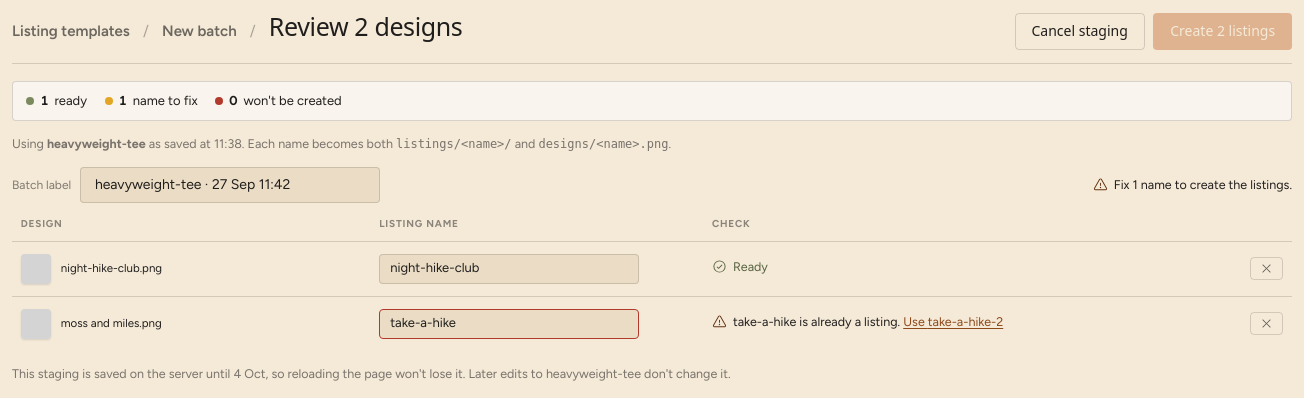
it: StagingPage › blocks Create on a name to fix, and Use suggestion sends it
The image size is (1304, 398).
Expected: the button "Create 2 listings" is disabled, [1153,13,1292,50]
Expected: the text "Fix 1 name to create the listings." is shown, [1114,176,1292,194]
Click the button "Use take-a-hike-2": coordinates (953, 321) [903,313,1003,330]
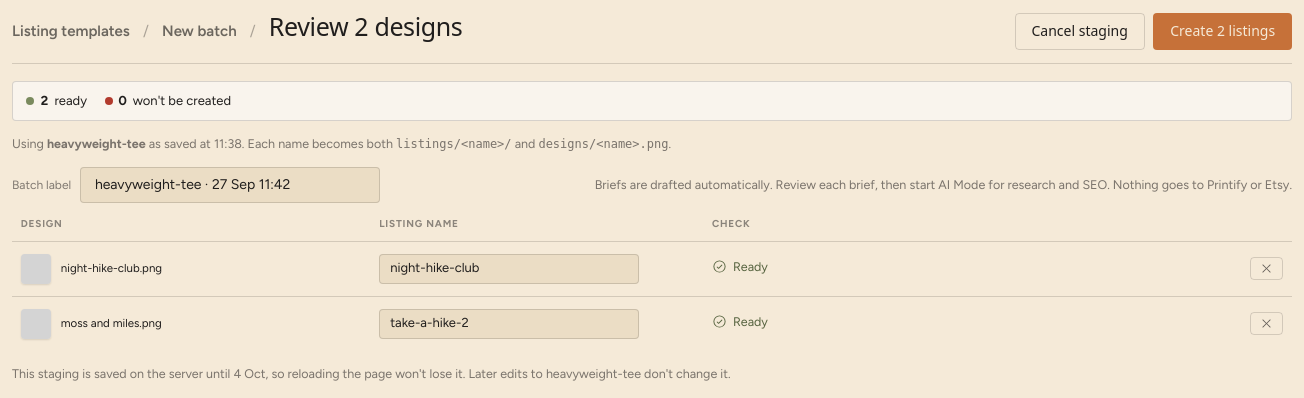
Result: the button "Create 2 listings" is enabled at [1153,13,1292,50]
Result: the field named "Listing name for moss and miles.png" holds "take-a-hike-2" at [379,309,639,339]
